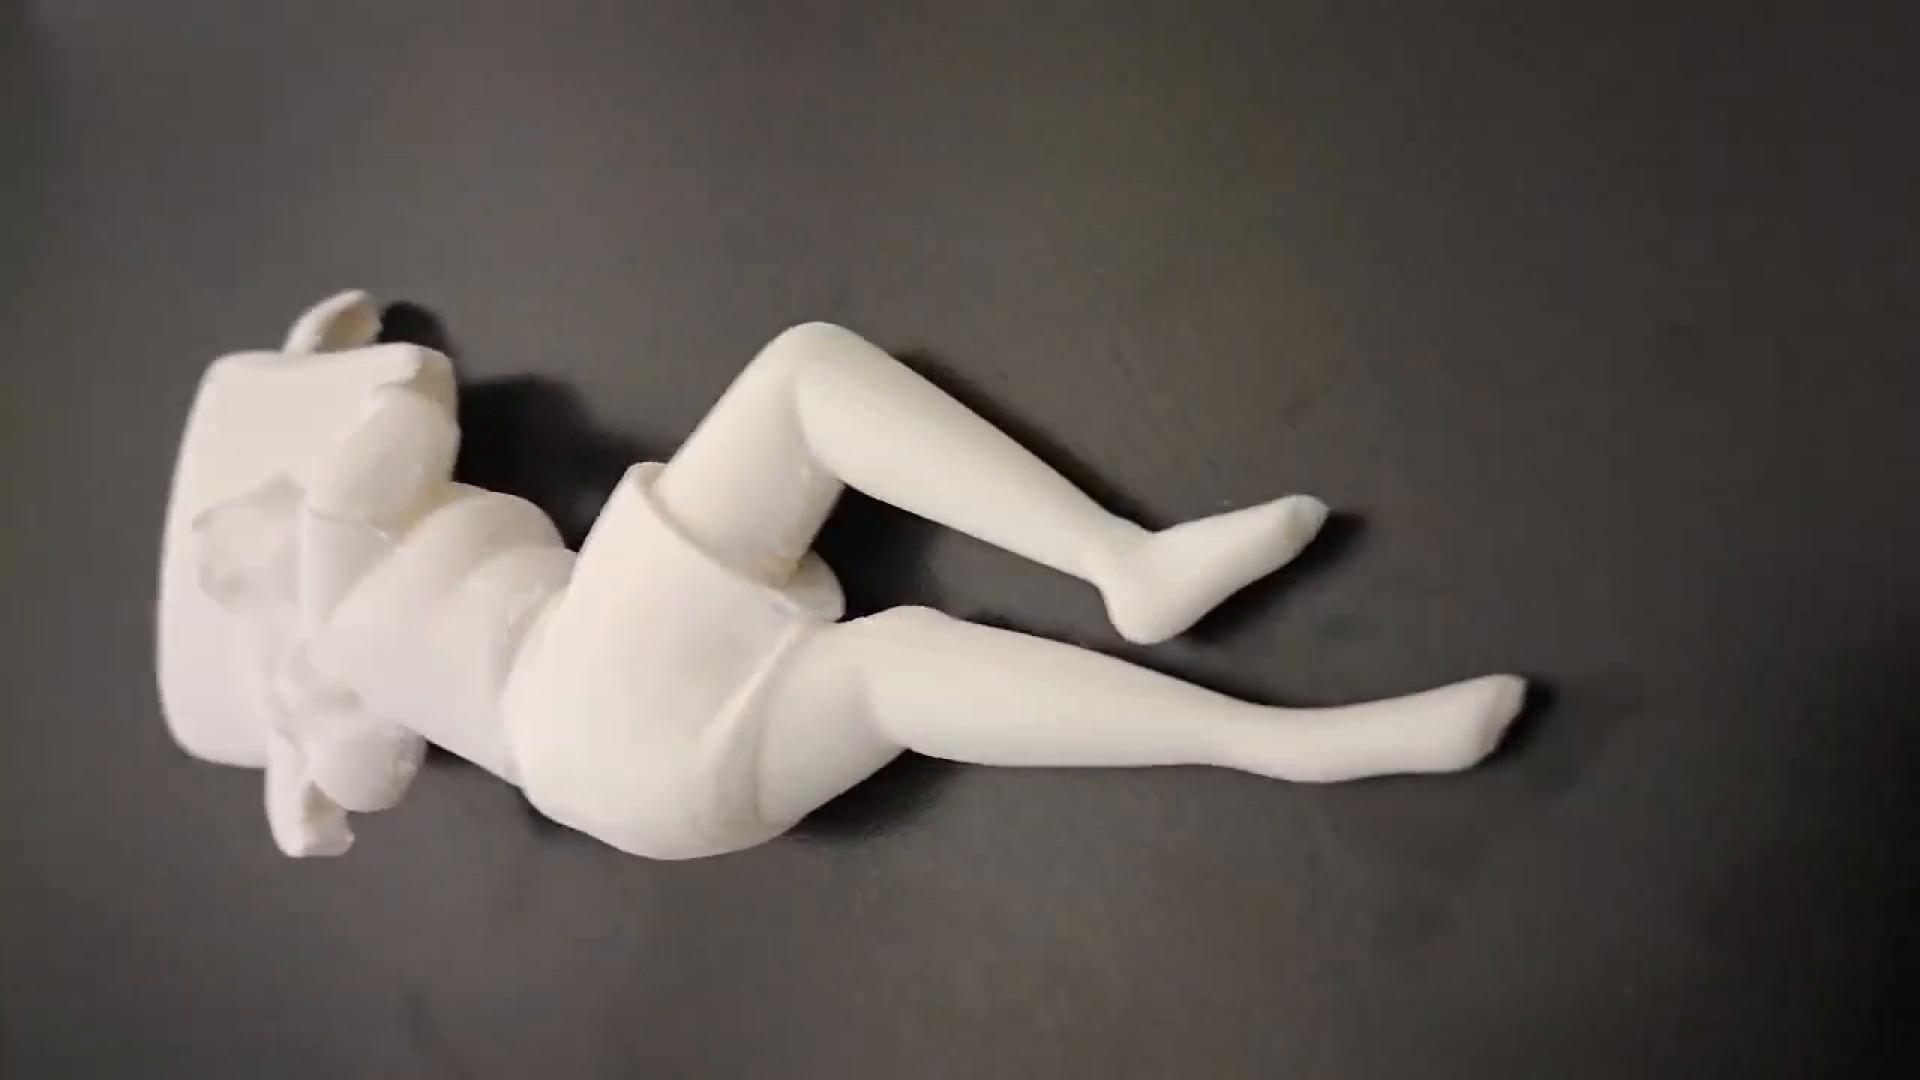Good-style: (150, 291, 1524, 858)
